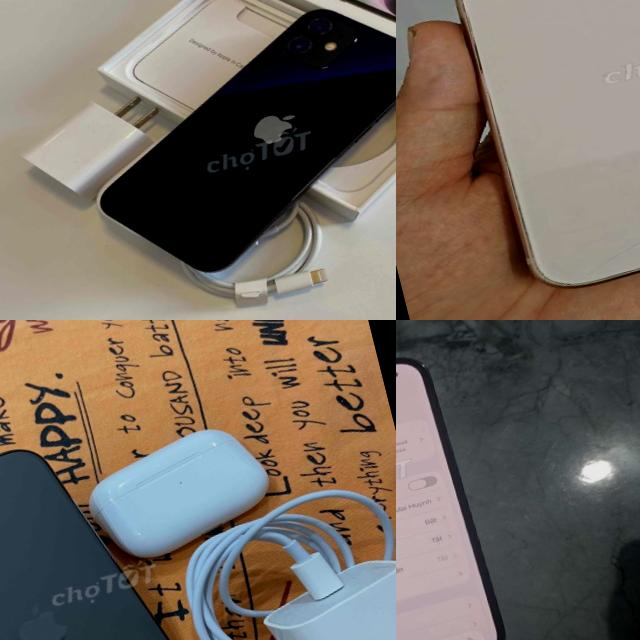gen_11: (0, 415, 238, 640)
gen_12_13: (59, 0, 396, 296)
gen_14: (396, 331, 522, 640)
gen_7_8: (408, 0, 640, 307)
physical_damage: (540, 113, 640, 285)
